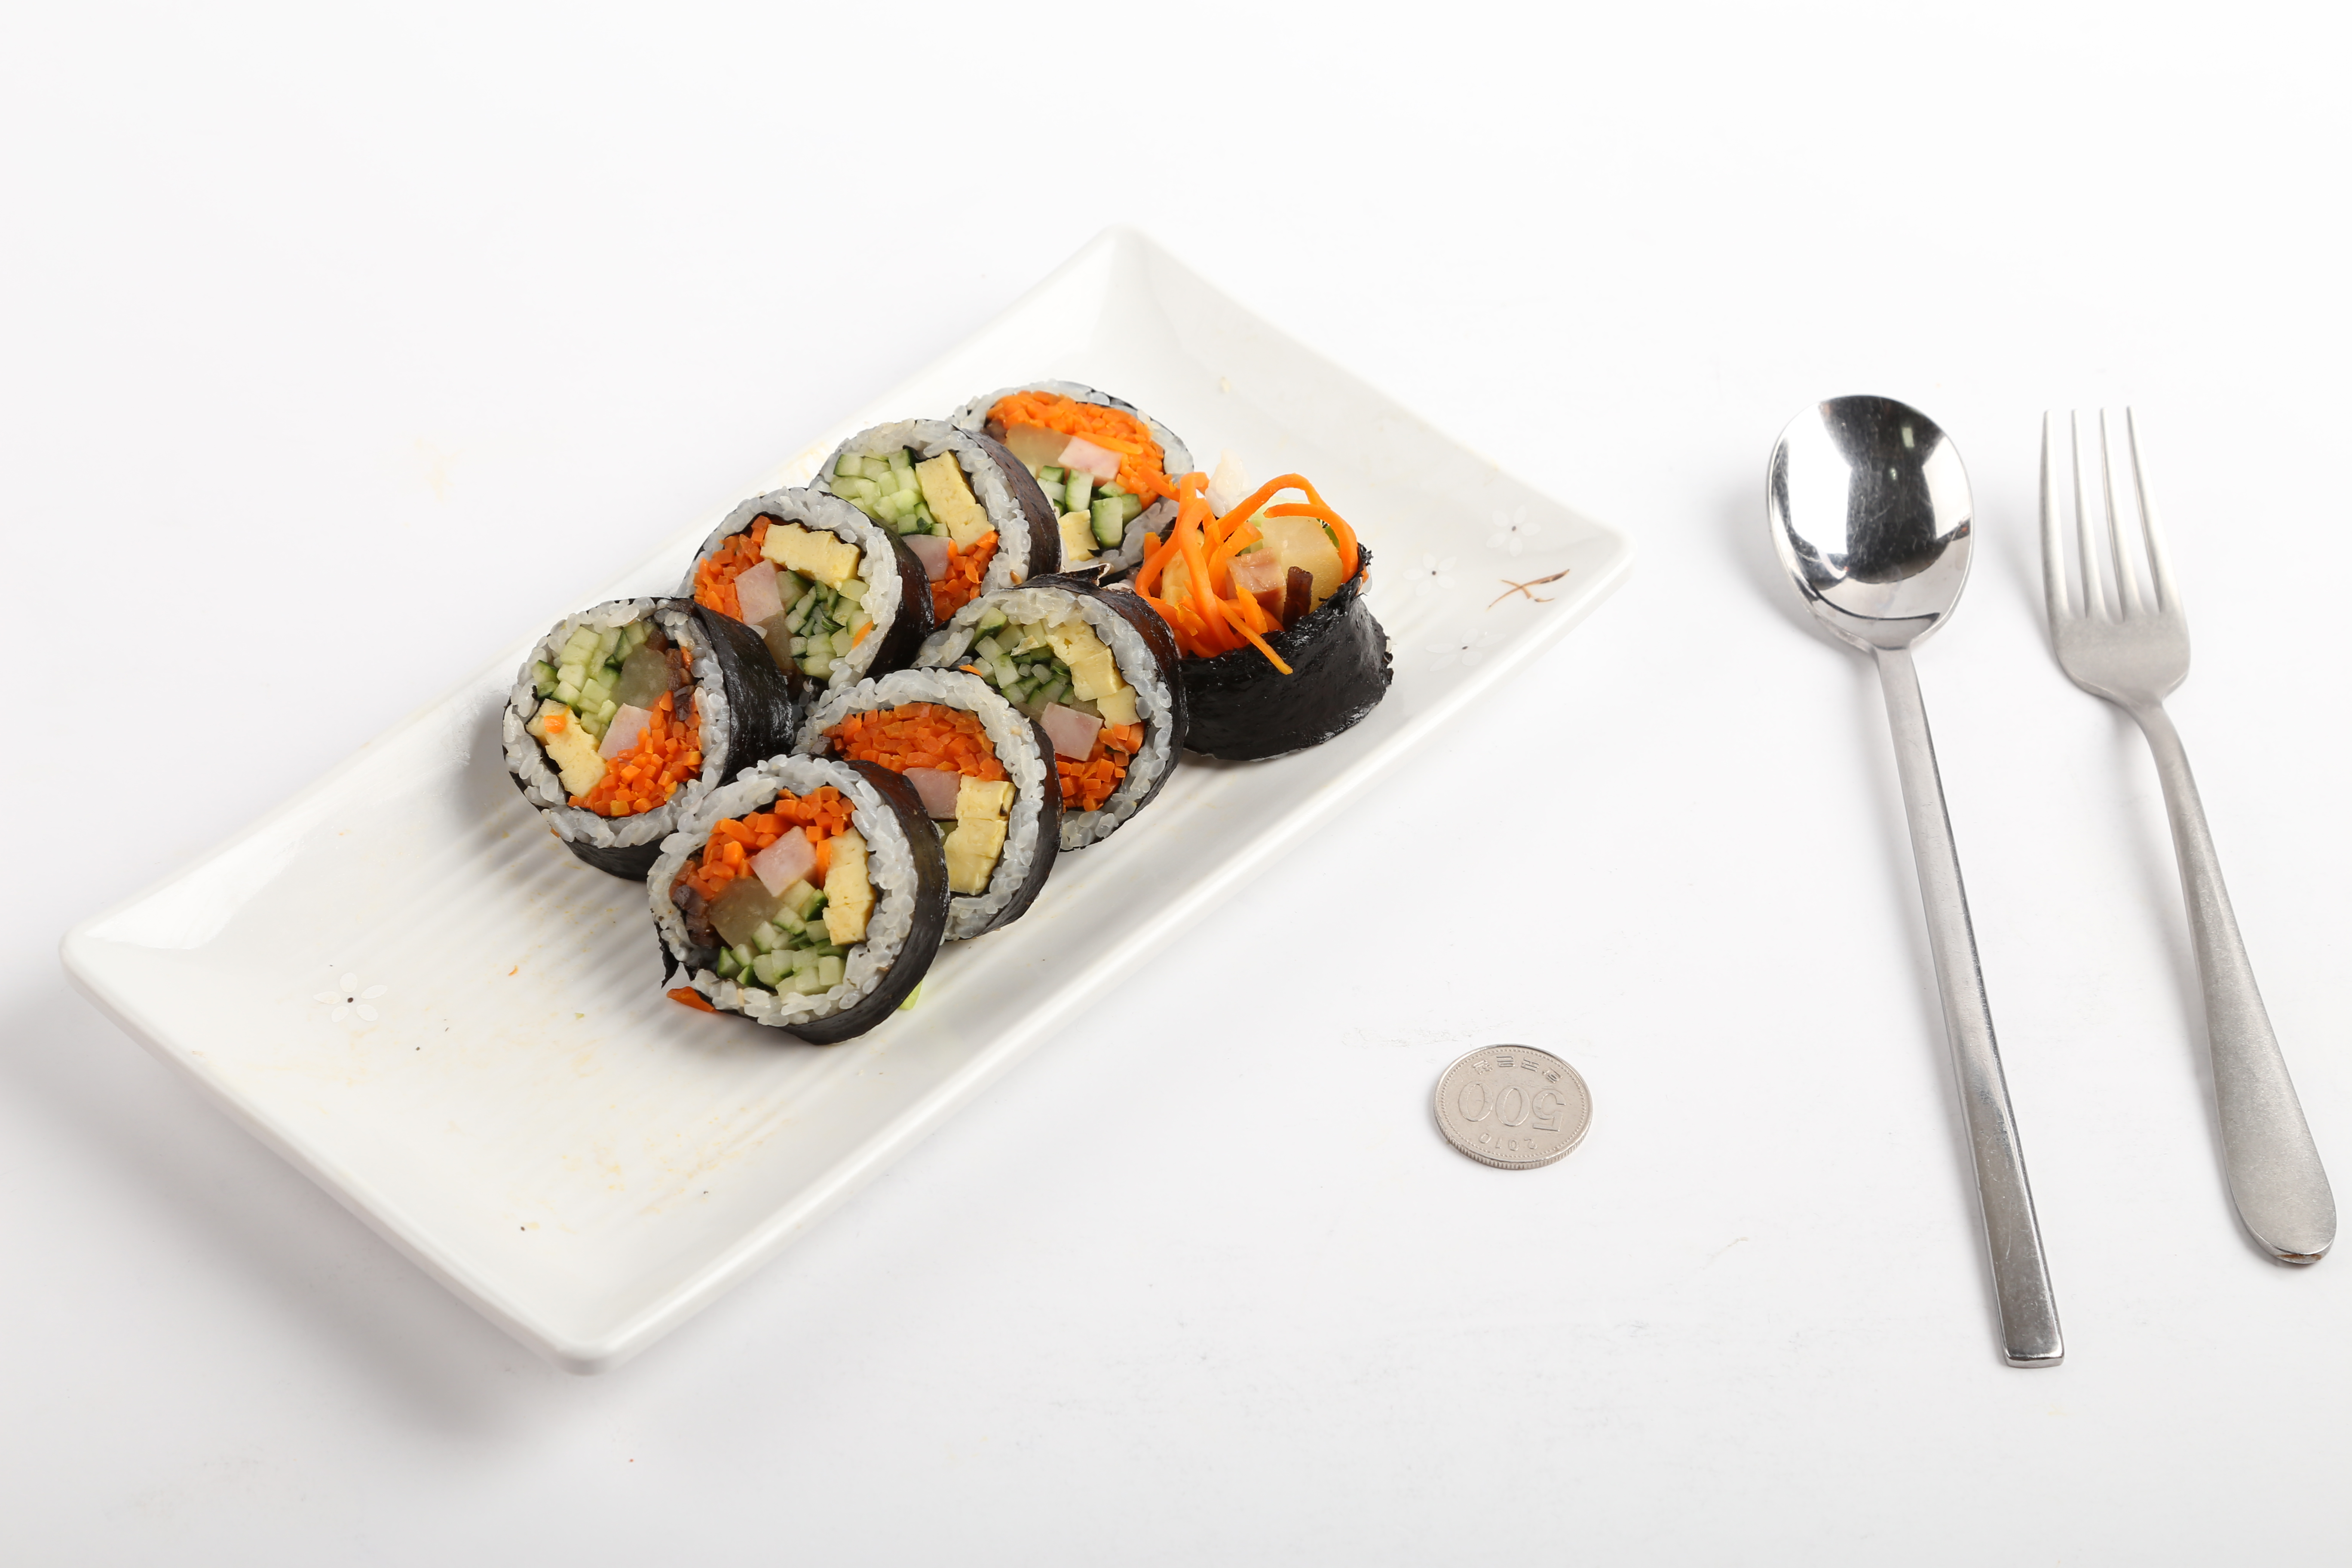dish: (49, 217, 1645, 1384)
ref_coin: (1421, 1032, 1594, 1174)
ref_fork: (2033, 388, 2200, 794)
ref_spoon: (1753, 387, 1983, 721)
김밥: (488, 373, 1398, 1053)
